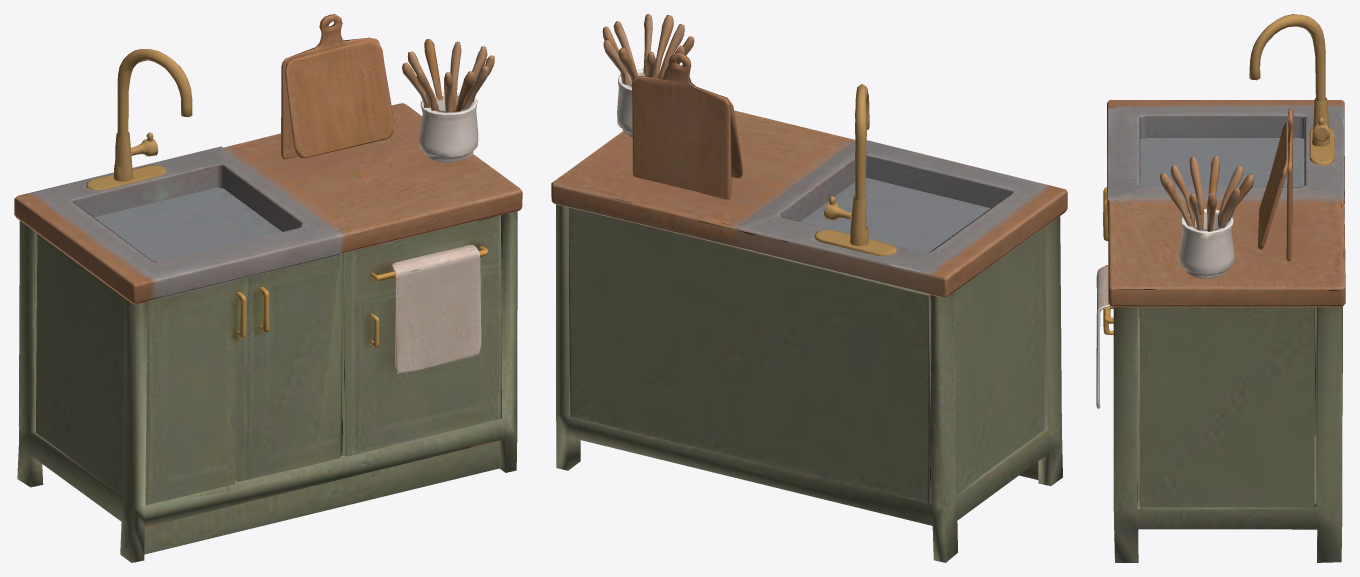
The model's file is kitchen_sink_cabinet.glb.
3 renders of one model, left to right at view 1: azimuth 30°, elevation 25°; view 2: azimuth 150°, elevation 25°; view 3: azimuth 270°, elevation 25°, orthographic. The views are drawn at different scales.
Visible parts, largest first — view 1: geometry_0; view 2: geometry_0; view 3: geometry_0.
Boxes of the visible parts, x1,y1,x2,y2 form: geometry_0: (14,14,522,562); geometry_0: (551,14,1067,562); geometry_0: (1096,14,1345,562).
Bounding box in the file's own units: 1 × 0.9964 × 0.5423.
Materials: 1 (1 with a texture image).
